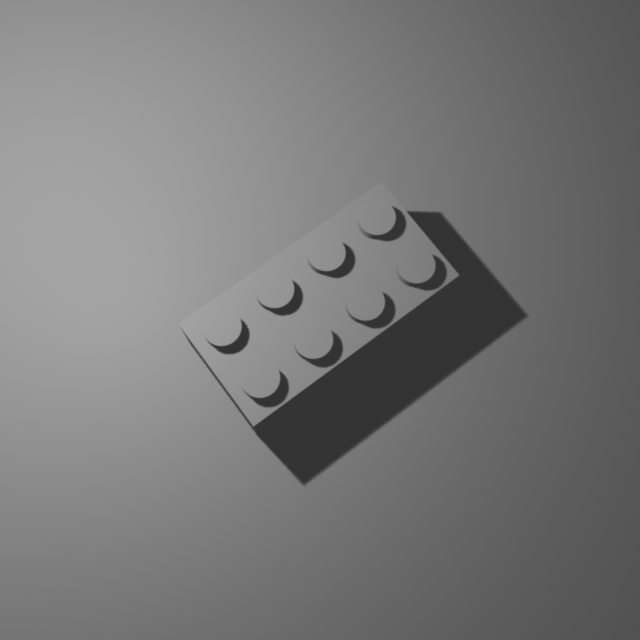lego_2x4: (176, 177, 461, 438)
